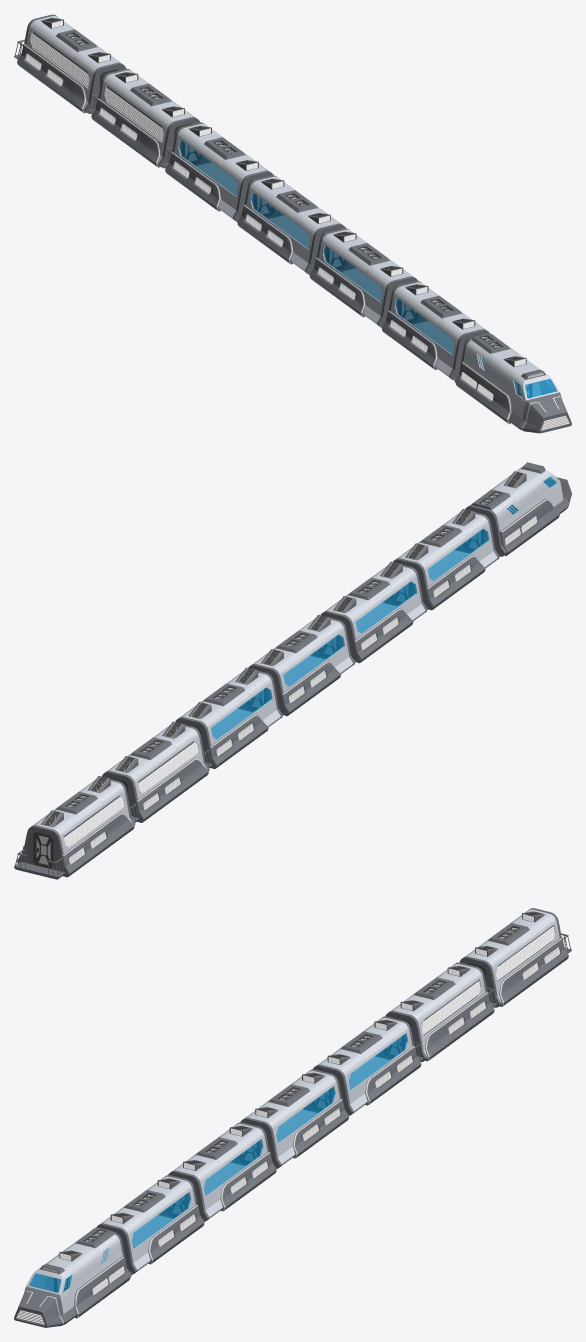
Rendered from fulll train.fbx.
3 renders of one model, top to bottom at view 1: azimuth 30°, elevation 25°; view 2: azimuth 150°, elevation 25°; view 3: azimuth 330°, elevation 25°, orthographic.
Visible parts, largest first — view 1: MAIN TRAIN, MAIN TRAIN.002; view 2: MAIN TRAIN, MAIN TRAIN.002; view 3: MAIN TRAIN, MAIN TRAIN.002.
Part boxes in pixels (box(x1,y1,x2,y2)): MAIN TRAIN: box(162, 122, 571, 433); MAIN TRAIN.002: box(14, 14, 200, 168); MAIN TRAIN: box(175, 462, 571, 768); MAIN TRAIN.002: box(14, 721, 209, 879); MAIN TRAIN: box(14, 1016, 423, 1327); MAIN TRAIN.002: box(385, 908, 571, 1061).
Size of the model in its own units: 344 by 306 by 5775.
